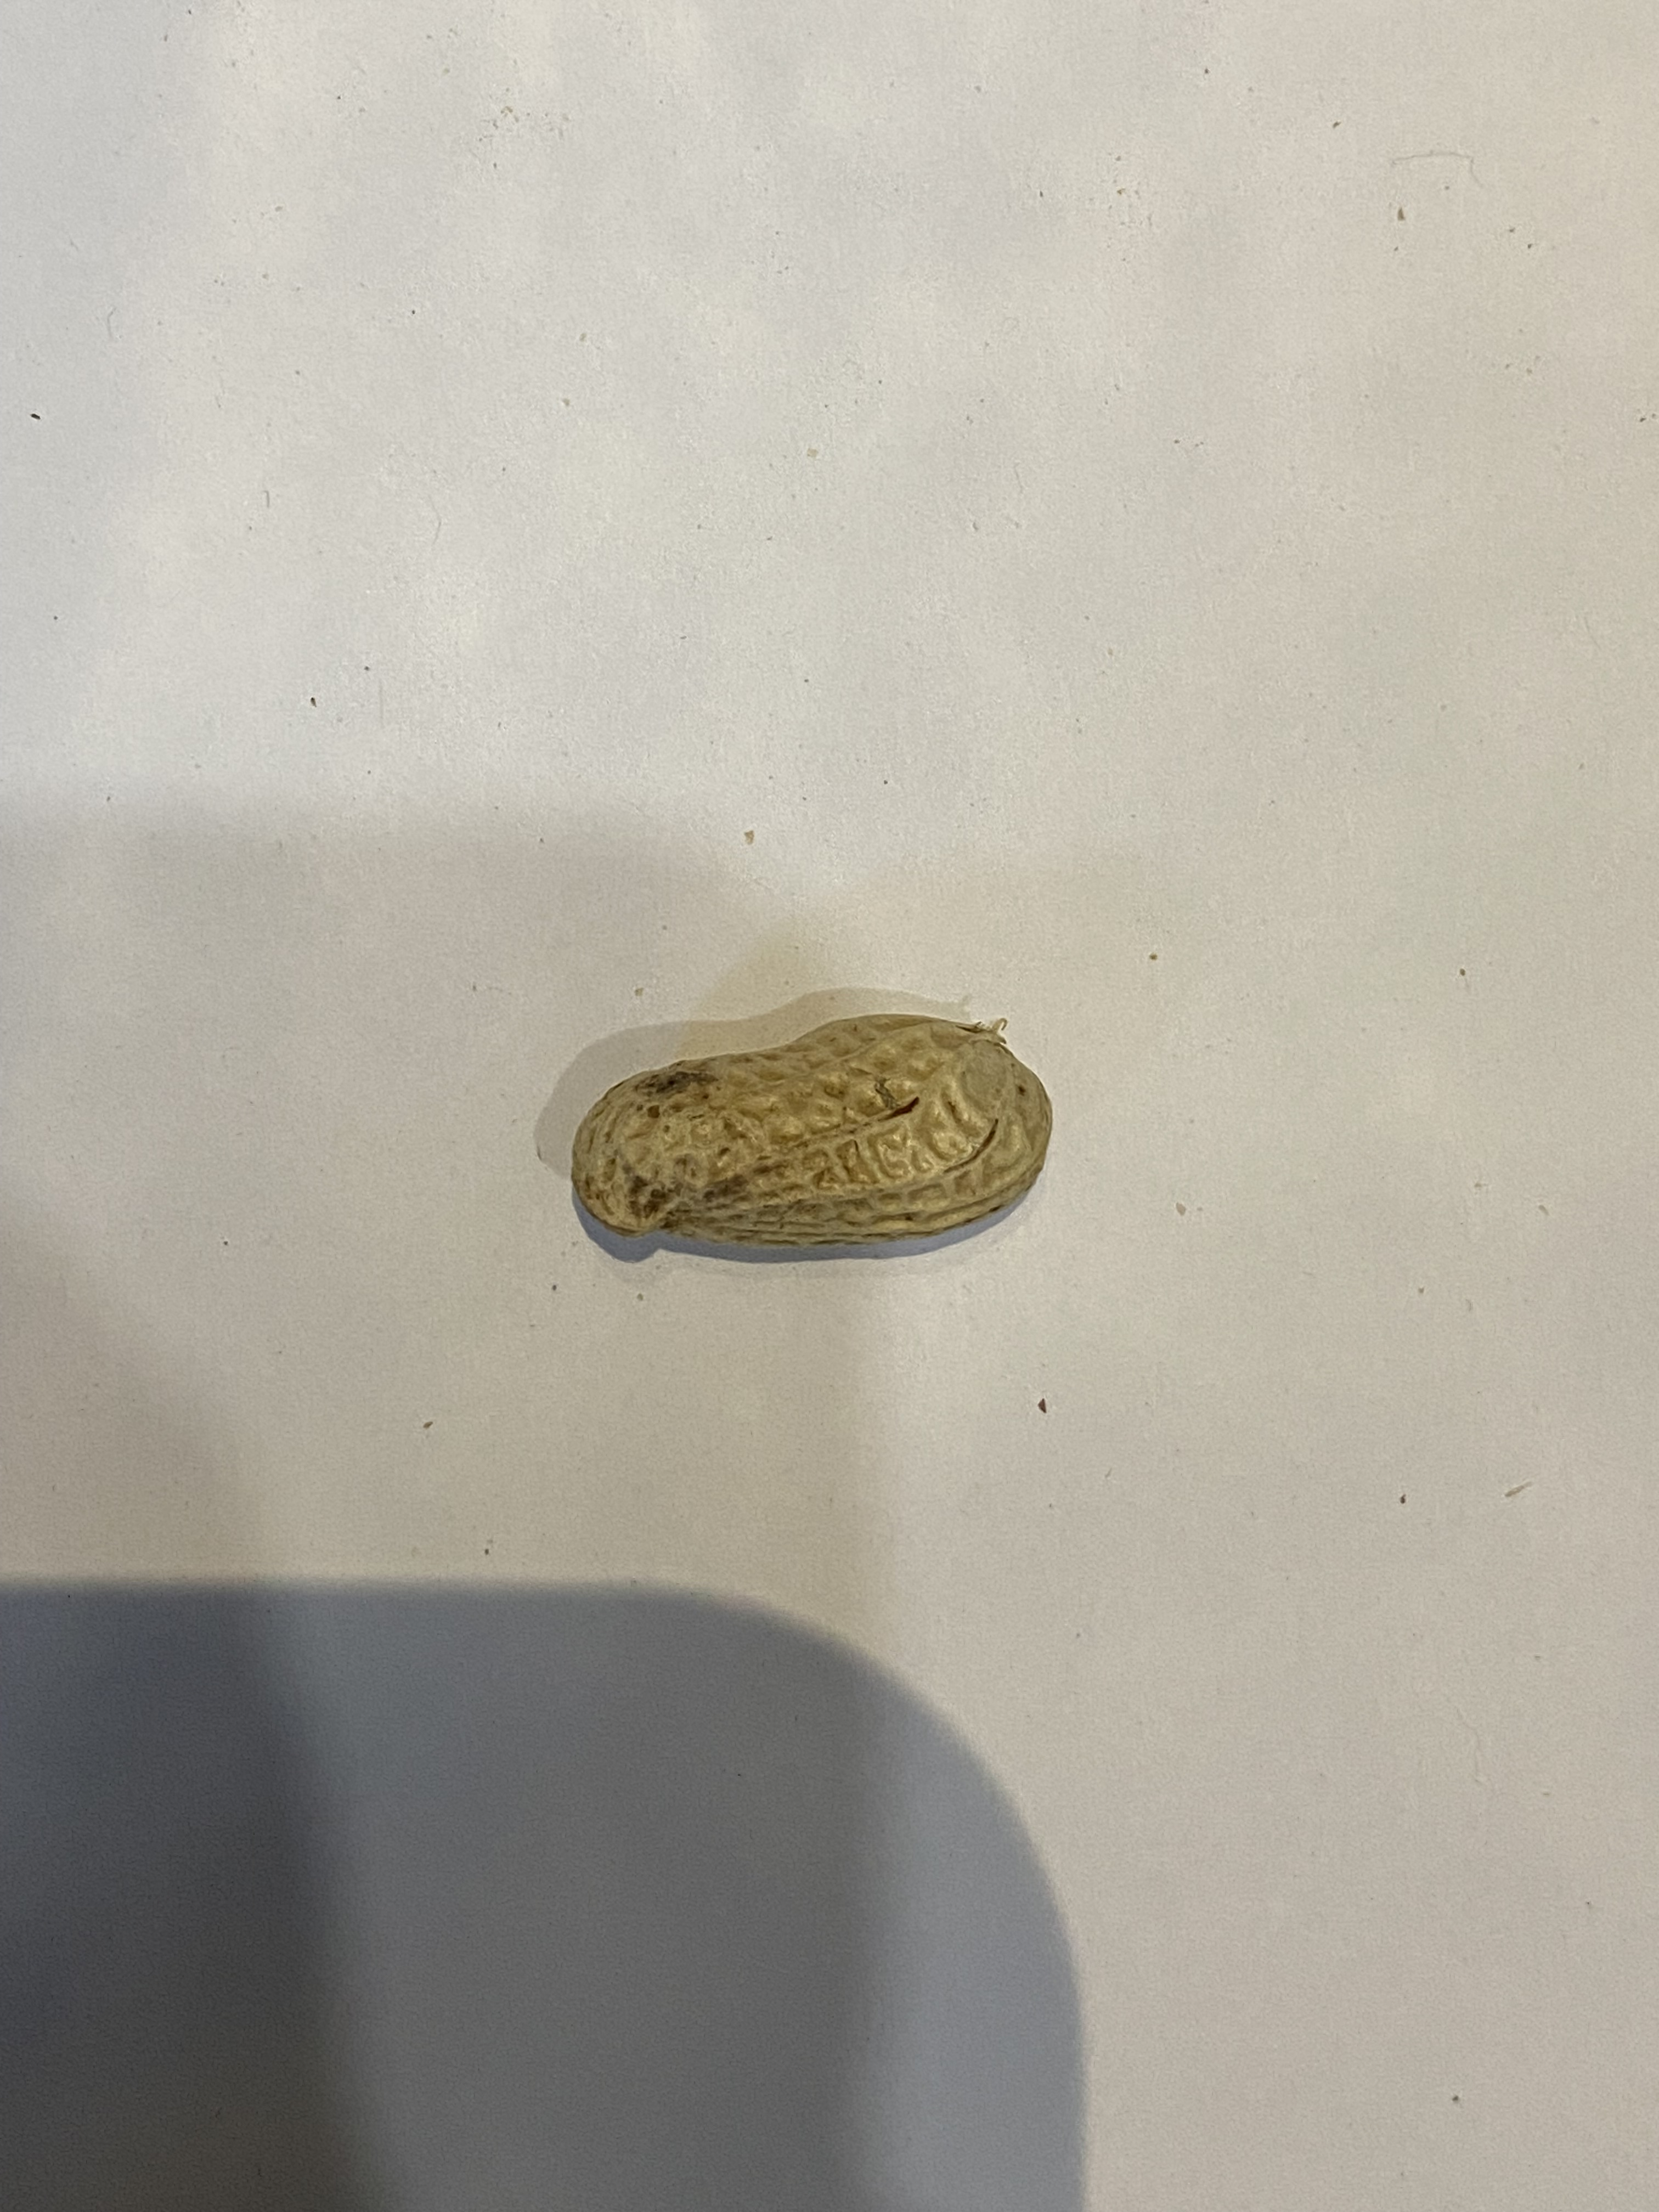kacang1: (559, 1000, 1065, 1261)
